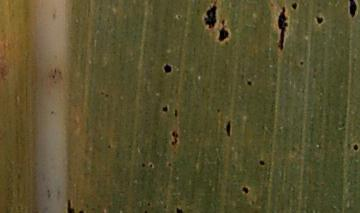tarspot: (277, 6, 288, 51), (203, 5, 218, 28), (218, 27, 228, 43), (66, 198, 76, 213), (349, 1, 357, 18), (170, 130, 179, 145), (225, 119, 232, 137), (314, 15, 324, 25), (163, 63, 172, 74), (240, 185, 250, 194), (289, 1, 299, 10), (161, 104, 169, 112), (98, 89, 106, 96), (259, 158, 265, 167), (173, 108, 178, 118), (175, 206, 182, 213), (215, 106, 221, 114), (353, 143, 359, 151), (106, 142, 112, 149), (139, 162, 147, 167), (52, 66, 57, 74), (246, 80, 252, 86), (49, 109, 55, 115), (78, 208, 85, 213), (50, 74, 57, 79), (149, 162, 154, 168), (167, 161, 172, 167), (177, 14, 182, 20), (105, 92, 110, 98), (298, 61, 305, 65), (146, 202, 152, 206), (143, 209, 149, 213), (221, 19, 225, 25)
